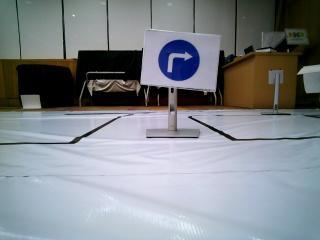right: (151, 34, 212, 89)
